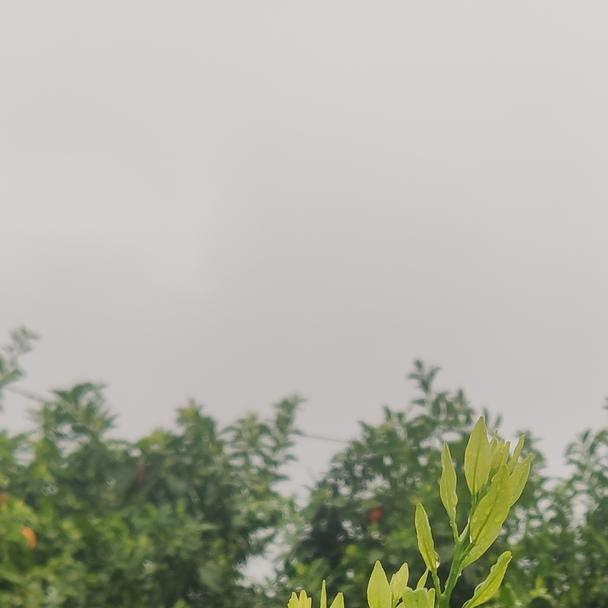shoot: (411, 413, 537, 607)
